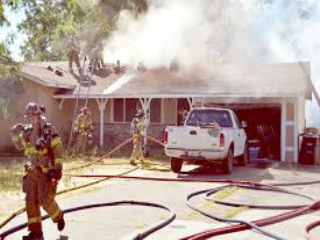smoke: (93, 9, 307, 81)
